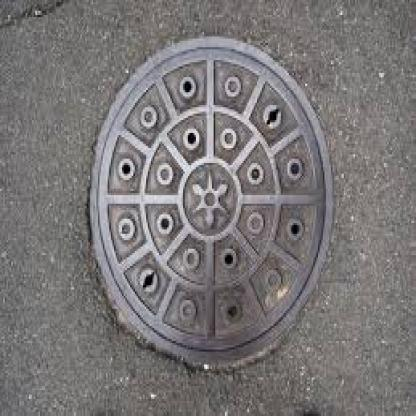manholes: (59, 21, 360, 394)
